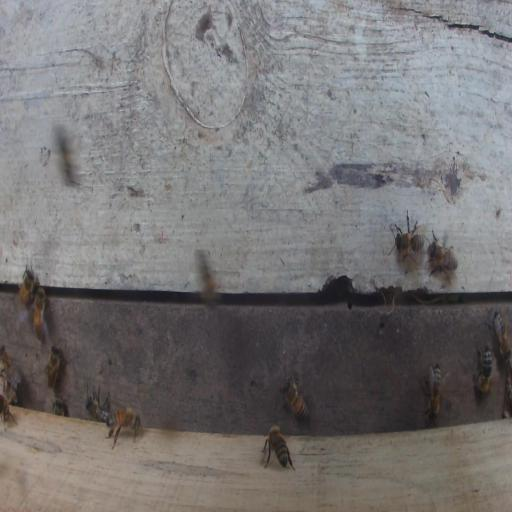bee: (388, 208, 428, 264), (425, 229, 457, 283), (262, 422, 294, 471), (107, 406, 141, 449), (280, 374, 309, 421), (422, 362, 443, 421), (58, 134, 79, 185), (473, 344, 493, 396), (33, 285, 49, 344), (493, 310, 511, 362), (0, 346, 22, 384), (45, 343, 63, 389), (86, 391, 110, 423), (19, 265, 36, 305), (53, 397, 69, 416)
